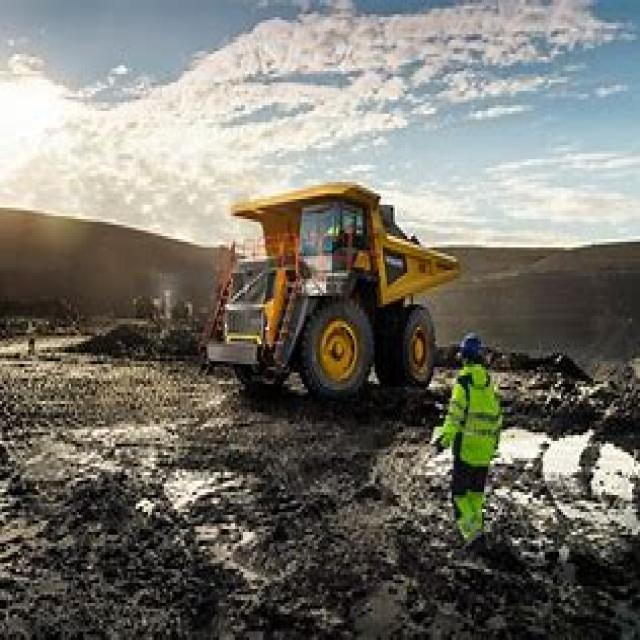dump_truck: (194, 179, 452, 393)
